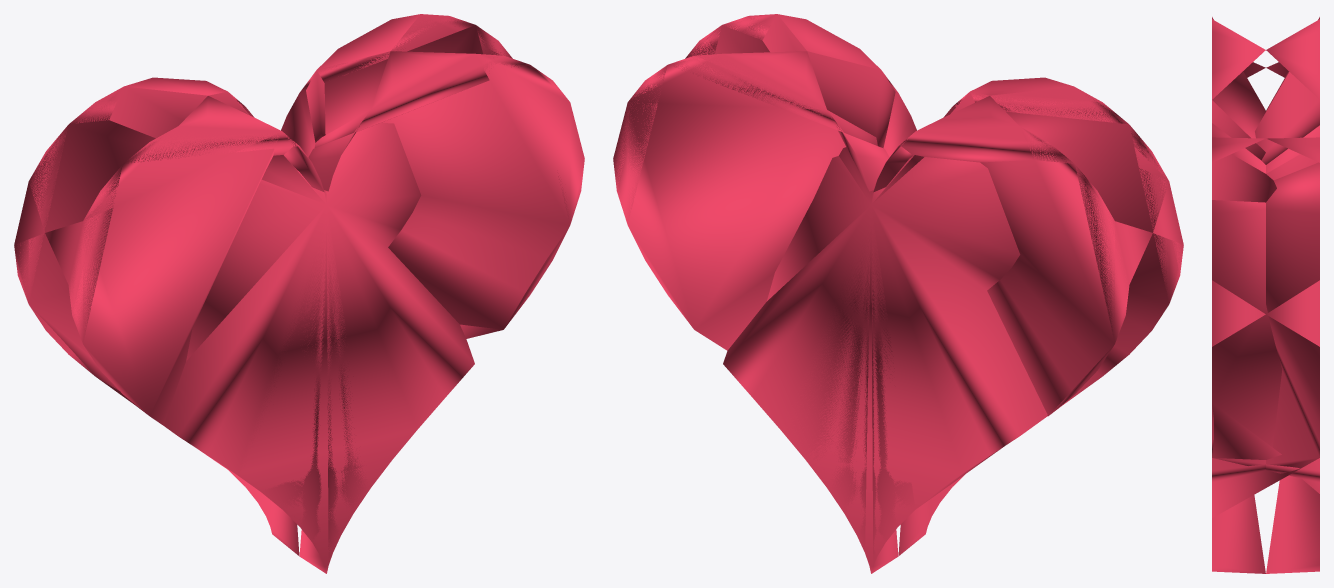
The model's file is heart.glb.
3 views of the same model, side by side, from view 1: azimuth 30°, elevation 25°; view 2: azimuth 150°, elevation 25°; view 3: azimuth 270°, elevation 25° (orthographic).
Parts seen in each view (by area): view 1: Heart; view 2: Heart; view 3: Heart.
Boxes of the visible parts, left/top/right/bottom form: Heart: left=14, top=14, right=584, bottom=573; Heart: left=613, top=14, right=1183, bottom=573; Heart: left=1212, top=17, right=1319, bottom=573.
Bounding box in the file's own units: 1.92 × 1.73 × 0.3499.
